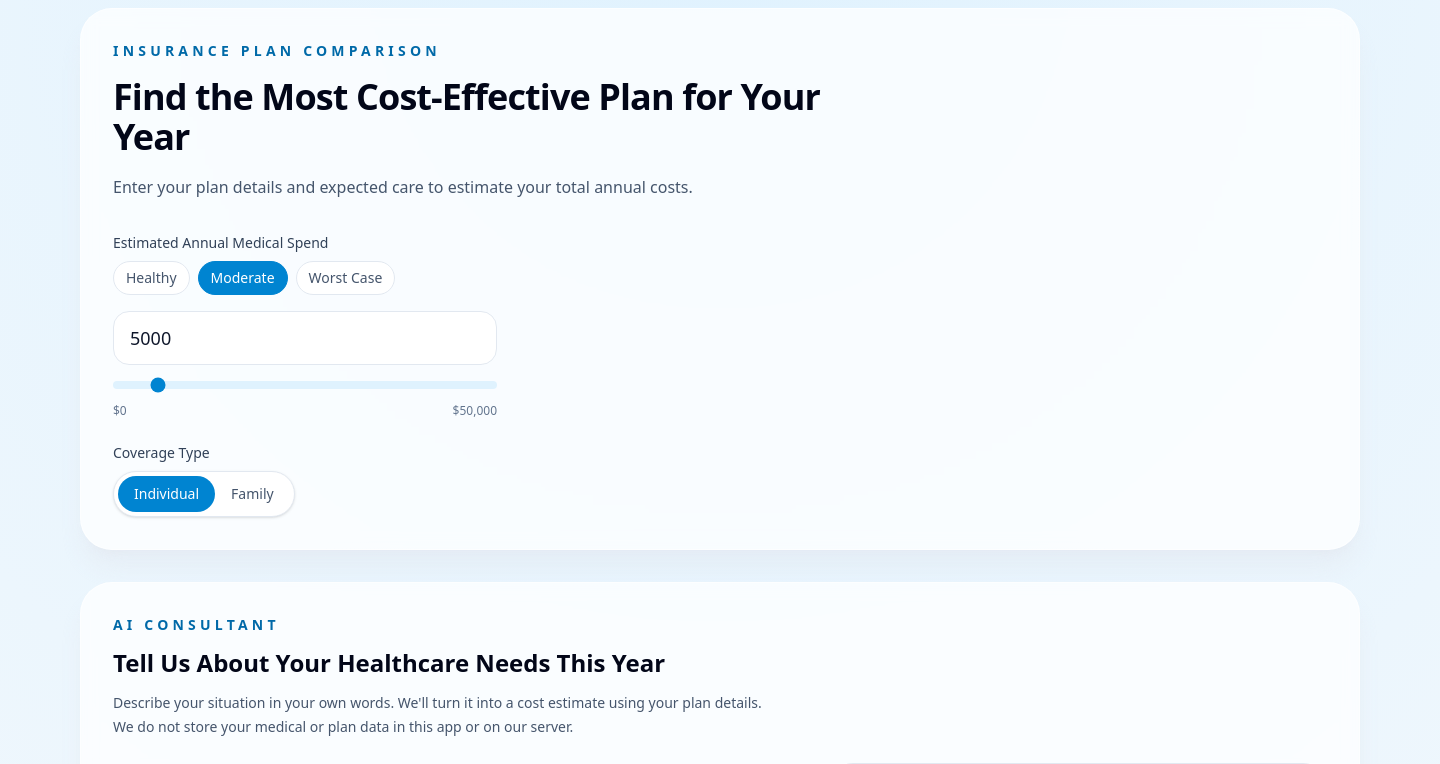
it: App integration › updates displayed total costs after clicking a preset
This screenshot has width=1440, height=764.
Step 1. Click the button with aria-label "Healthy:" → (151, 278), box [113,261,190,295]
(page scrolled)
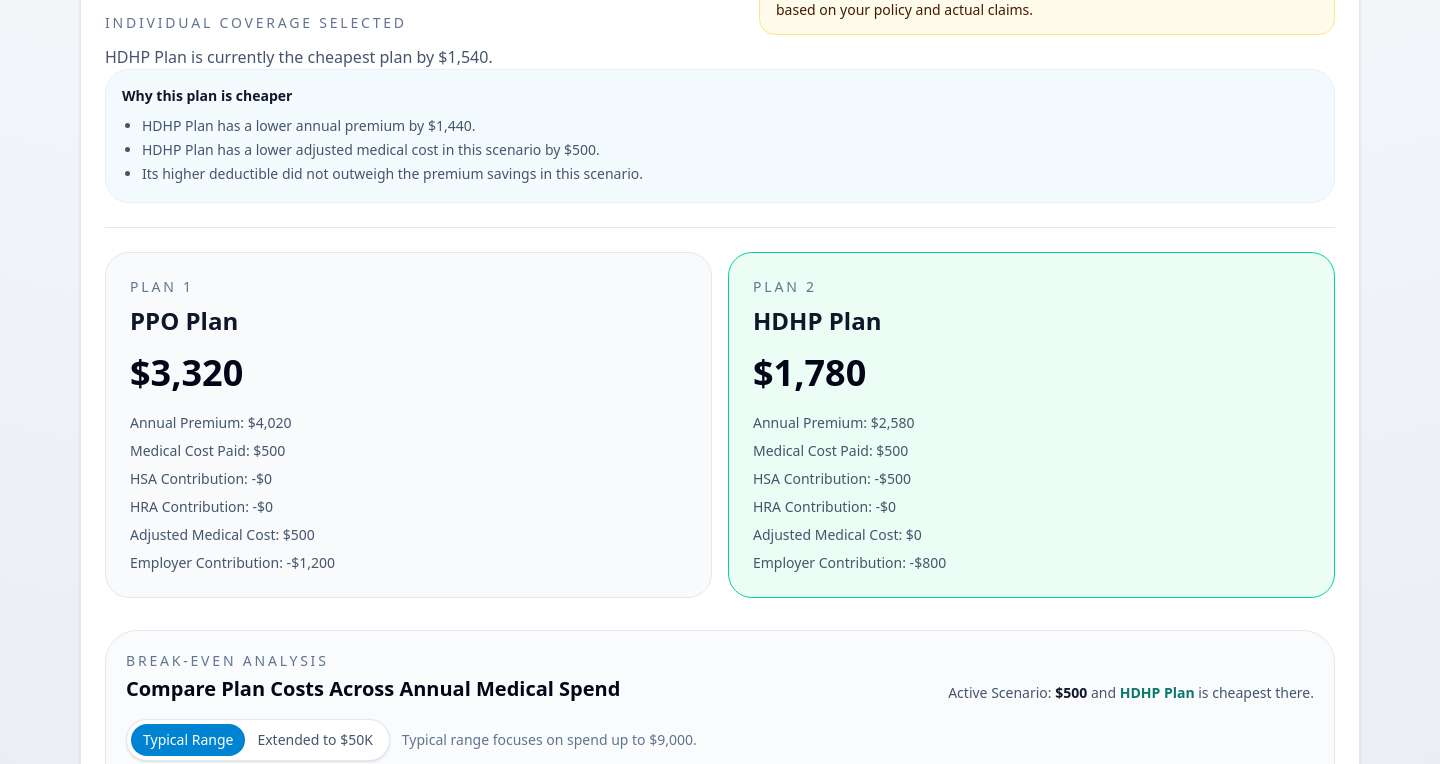
Expected: the text "$3,320" is shown, [130,348,243,397]
Expected: the text "$1,780" is shown, [753,348,866,397]
